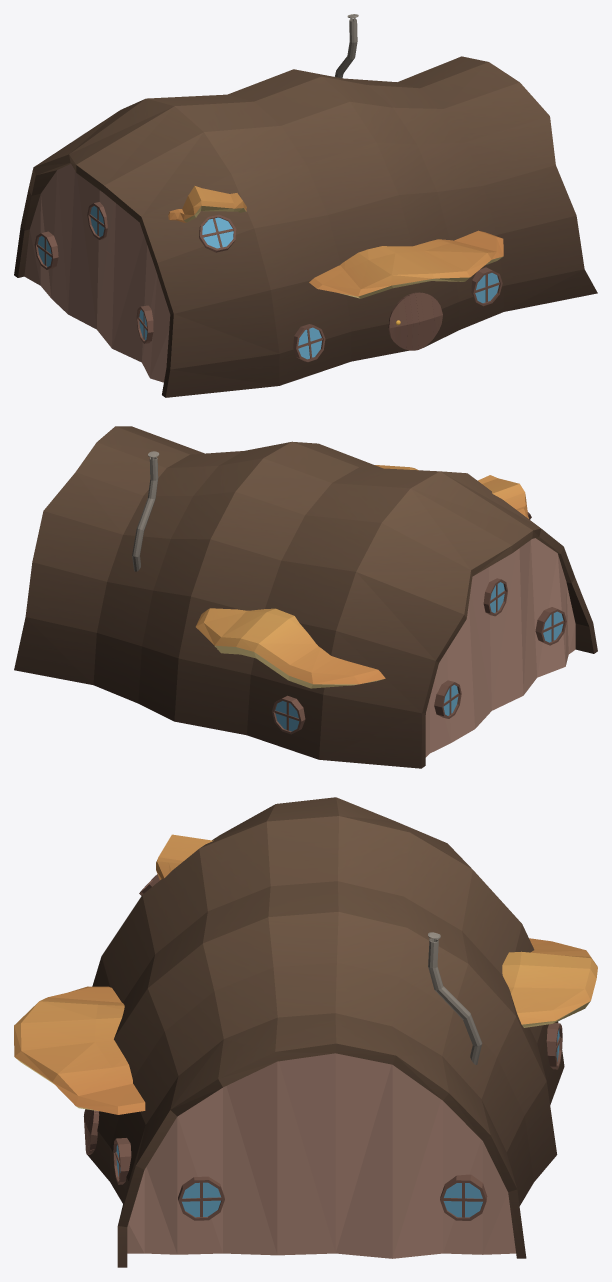
The model's file is Haus_2.fbx.
3 views of the same model, one above another, from view 1: azimuth 30°, elevation 25°; view 2: azimuth 150°, elevation 25°; view 3: azimuth 270°, elevation 25° (orthographic). The views are drawn at different scales.
Visible parts, largest first — view 1: Hous.001, roof, door, roof.001, Window.008, Window.009, Window.010, Window.011, Window.015, Schornstein.001, Window.012; view 2: Hous.001, roof.002, Schornstein.001, Window.016, roof.001, Window.012, Window.011, Window.015; view 3: Hous.001, roof, roof.002, Window.013, Window.014, Schornstein.001, roof.001, Window.010, Window.016.
Part boxes in pixels (x1=…): Hous.001: x1=14, y1=56, x2=597, y2=397; roof: x1=309, y1=230, x2=503, y2=298; door: x1=388, y1=292, x2=442, y2=350; roof.001: x1=168, y1=186, x2=246, y2=222; Window.008: x1=199, y1=214, x2=236, y2=252; Window.009: x1=293, y1=324, x2=325, y2=361; Window.010: x1=471, y1=267, x2=502, y2=306; Window.011: x1=34, y1=231, x2=58, y2=269; Window.015: x1=87, y1=202, x2=107, y2=239; Schornstein.001: x1=334, y1=14, x2=358, y2=78; Window.012: x1=136, y1=305, x2=153, y2=343; Hous.001: x1=14, y1=426, x2=597, y2=768; roof.002: x1=195, y1=608, x2=385, y2=688; Schornstein.001: x1=132, y1=451, x2=159, y2=571; Window.016: x1=272, y1=695, x2=305, y2=734; roof.001: x1=478, y1=475, x2=528, y2=518; Window.012: x1=535, y1=607, x2=566, y2=645; Window.011: x1=434, y1=680, x2=461, y2=718; Window.015: x1=483, y1=578, x2=507, y2=616; Hous.001: x1=87, y1=797, x2=564, y2=1267; roof: x1=14, y1=986, x2=145, y2=1114; roof.002: x1=502, y1=938, x2=597, y2=1027; Window.013: x1=440, y1=1174, x2=487, y2=1220; Window.014: x1=178, y1=1176, x2=224, y2=1220; Schornstein.001: x1=428, y1=932, x2=482, y2=1064; roof.001: x1=156, y1=834, x2=213, y2=879; Window.010: x1=113, y1=1138, x2=131, y2=1184; Window.016: x1=546, y1=1023, x2=562, y2=1069.
Size of the model in its own units: 1666 by 784 by 1575.
